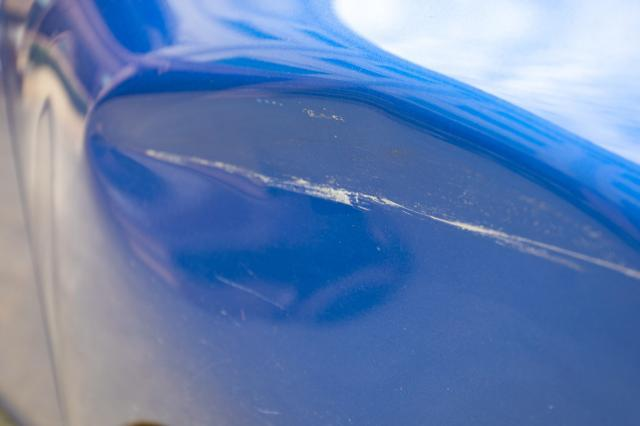Bumper: (58, 78, 640, 404)
